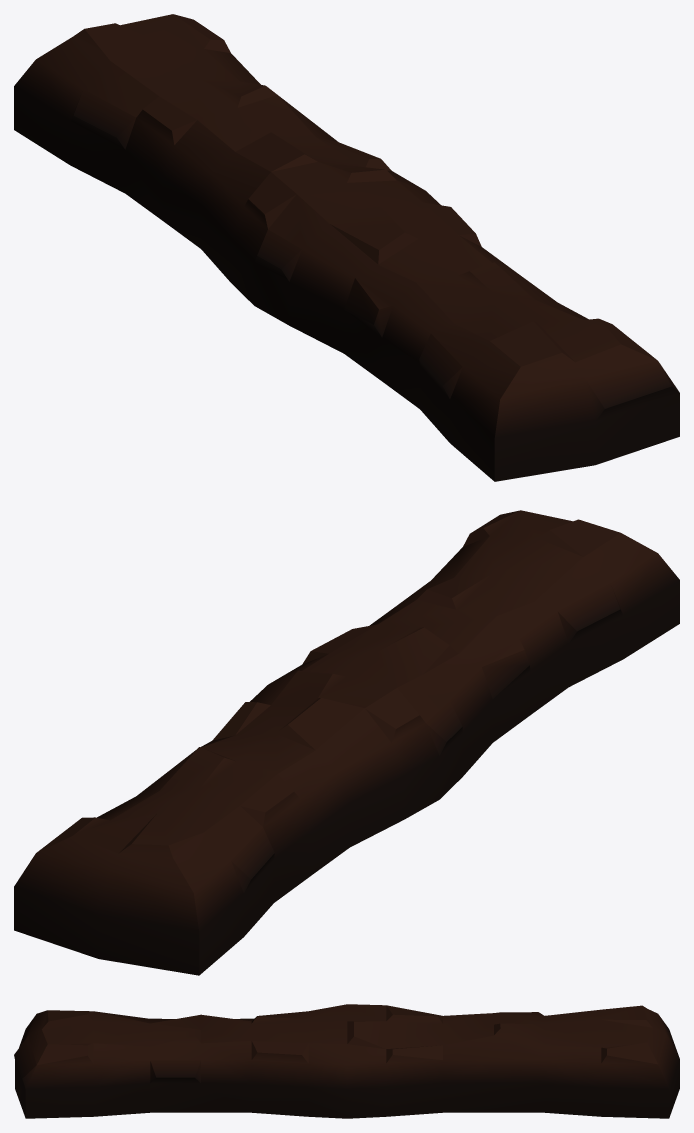
The model's file is Crop6x1.fbx.
The picture shows the model from 3 angles, top to bottom: view 1: azimuth 30°, elevation 25°; view 2: azimuth 150°, elevation 25°; view 3: azimuth 270°, elevation 25°; orthographic projection. The views are drawn at different scales.
Parts seen in each view (by area): view 1: Crop6x1; view 2: Crop6x1; view 3: Crop6x1.
Part boxes in pixels (x1,y1,x2,y2): Crop6x1: (14, 14, 679, 481); Crop6x1: (14, 510, 679, 975); Crop6x1: (14, 1004, 679, 1118).
Size of the model in its own units: 198 by 108 by 910.
